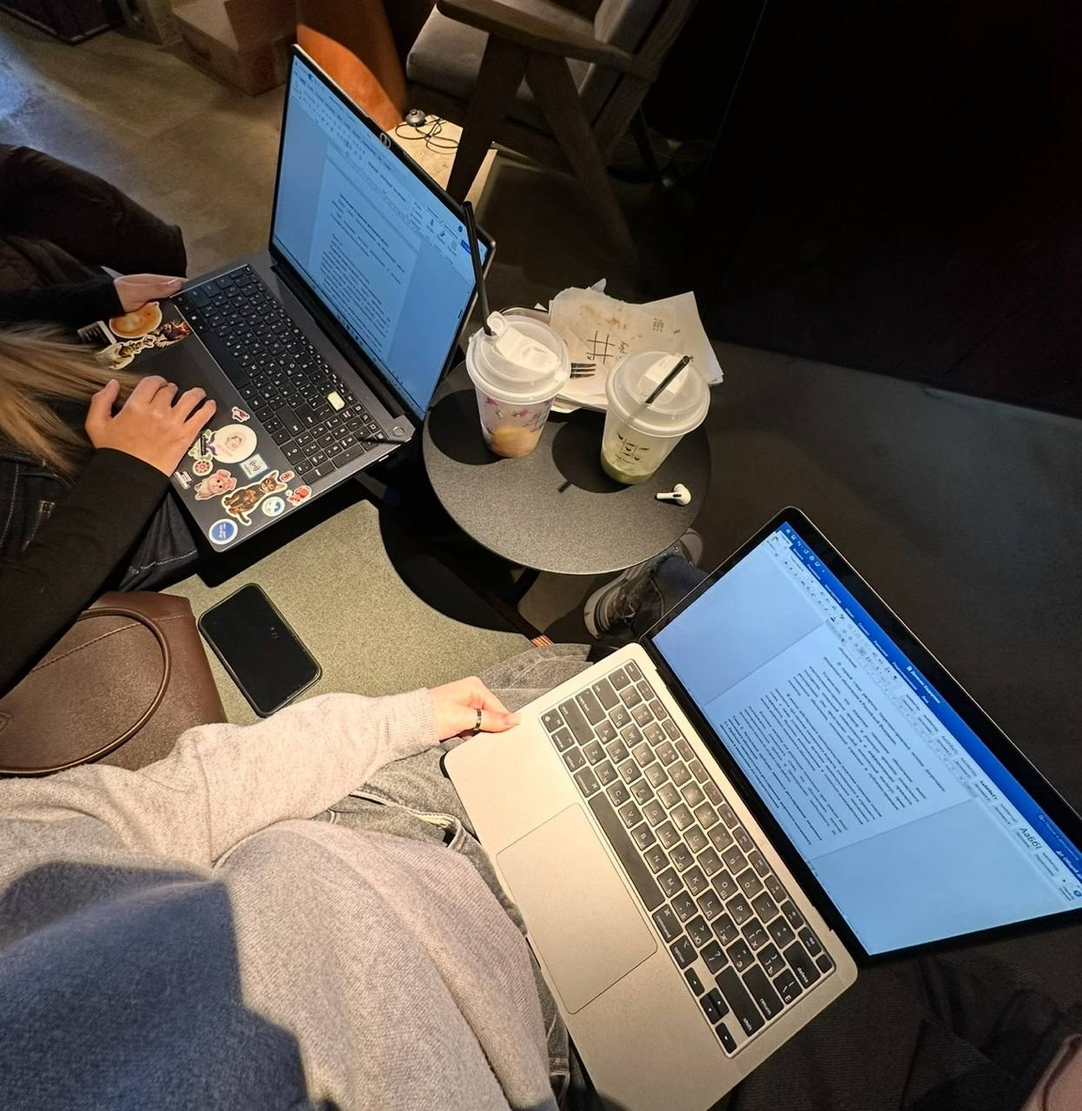cell phone: (197, 582, 322, 718)
laptop: (442, 504, 1081, 1109), (99, 42, 496, 564)
